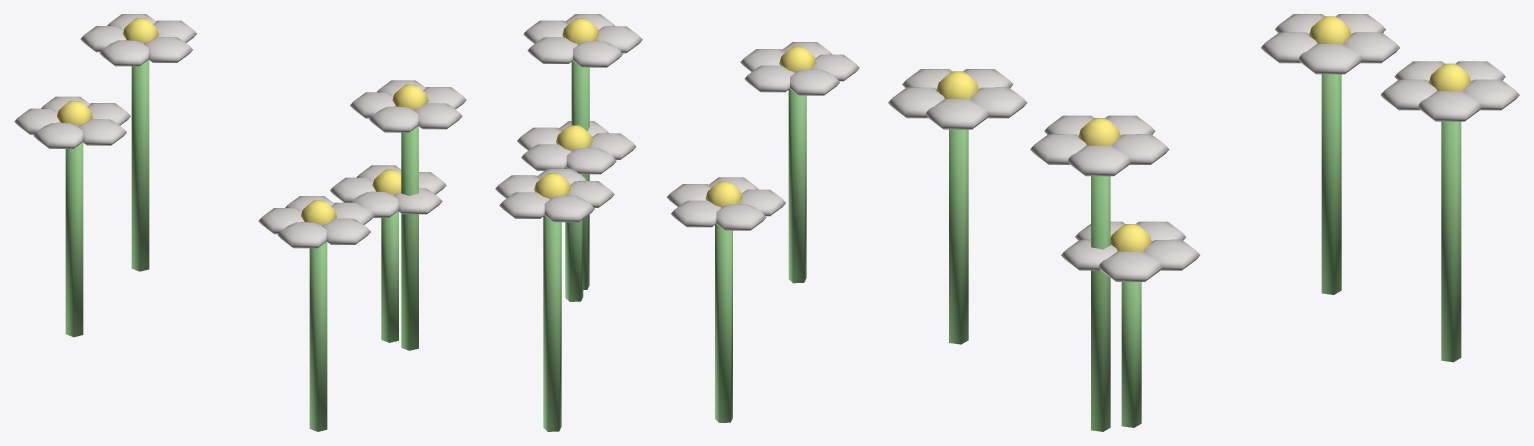
Rendered from env_enchanted_flower.glb.
The picture shows the model from 3 angles, left to right: view 1: azimuth 30°, elevation 25°; view 2: azimuth 150°, elevation 25°; view 3: azimuth 270°, elevation 25°; orthographic projection. The views are drawn at different scales.
Visible parts, largest first — view 1: cone; view 2: cone; view 3: cone.
Part boxes in pixels (box(x1,y1,x2,y2)): cone: box(14, 14, 466, 431); cone: box(495, 14, 859, 431); cone: box(888, 14, 1519, 431).
Size of the model in its own units: 0.8184 by 0.617 by 1.15.
